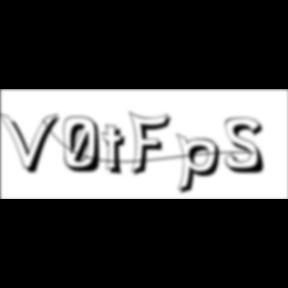0: (64, 115, 108, 174)
F: (129, 110, 177, 178)
S: (225, 117, 271, 176)
V: (0, 110, 64, 176)
p: (177, 132, 227, 198)
t: (102, 124, 132, 179)
